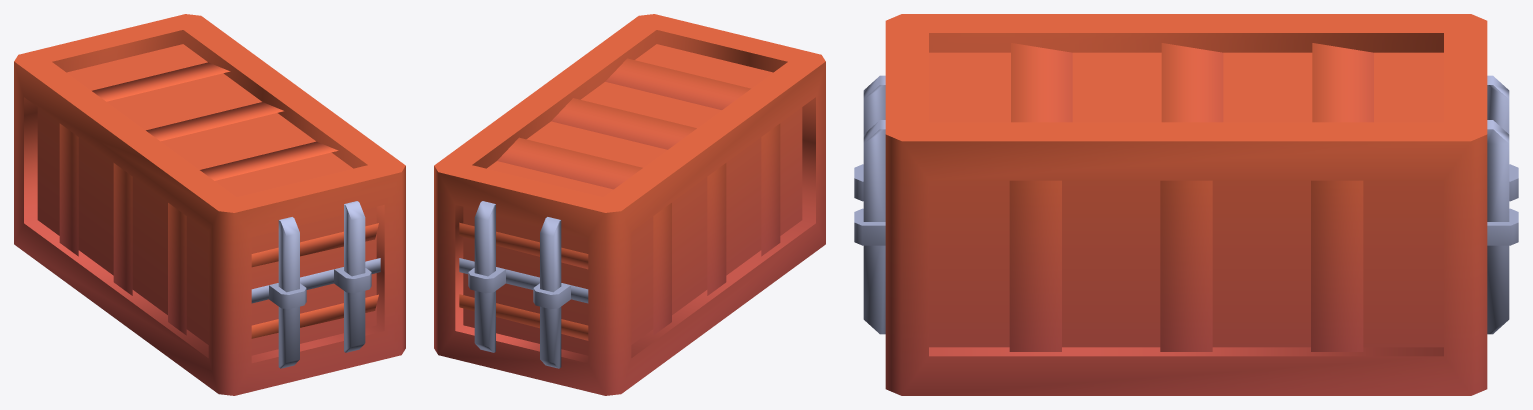
The model's file is shipping-container-a.lod.glb.
3 views of the same model, side by side, from view 1: azimuth 30°, elevation 25°; view 2: azimuth 150°, elevation 25°; view 3: azimuth 270°, elevation 25° (orthographic). The views are drawn at different scales.
Parts seen in each view (by area): view 1: shipping-container-a; view 2: shipping-container-a; view 3: shipping-container-a.
Part boxes in pixels (left/top/right/bottom): shipping-container-a: left=14, top=14, right=405, bottom=395; shipping-container-a: left=434, top=14, right=825, bottom=395; shipping-container-a: left=854, top=14, right=1518, bottom=395.
Bounding box in the file's own units: 0.3726 × 0.3481 × 0.8226.
1 material, 1 textured.
